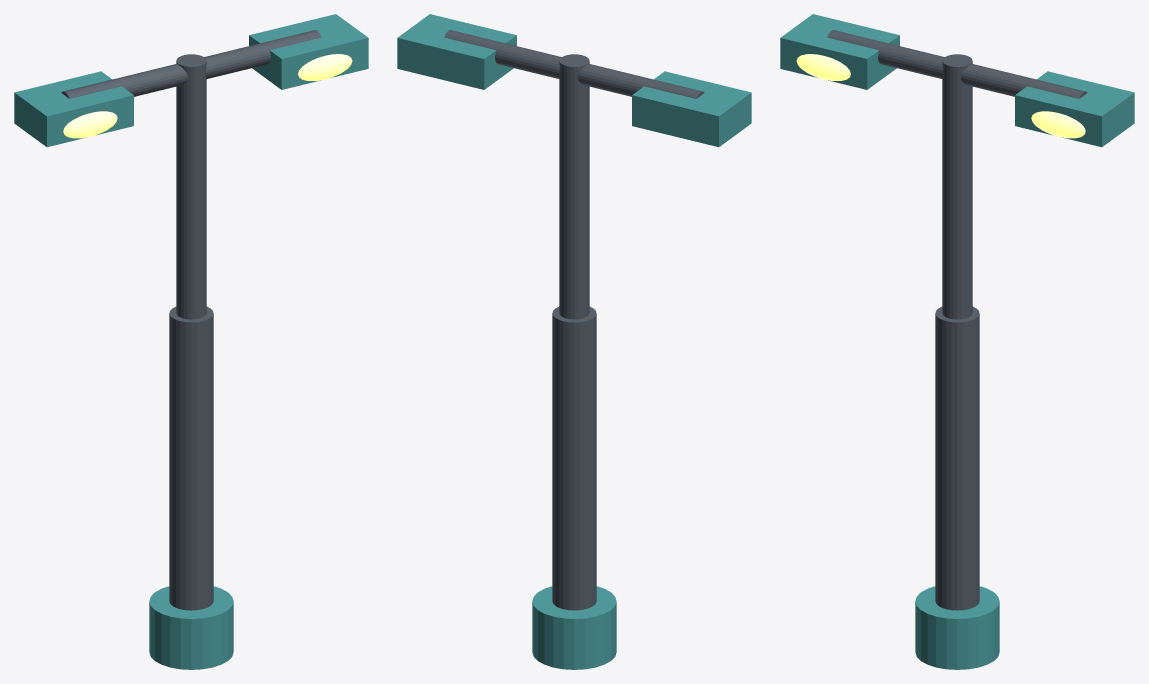
Rendered from lamp_civic_double_v1.47ae1fe13f50.glb.
3 views of the same model, side by side, from view 1: azimuth 30°, elevation 25°; view 2: azimuth 150°, elevation 25°; view 3: azimuth 330°, elevation 25° (orthographic).
Visible parts, largest first — view 1: Lamp_Lower_CIVIC_DOUBLE, Lamp_Upper_CIVIC_DOUBLE, Lamp_Base_CIVIC_DOUBLE, Luminaire_CIVIC_DOUBLE, Luminaire_CIVIC_DOUBLE.001, Lamp_Arm_CIVIC_DOUBLE, Glow_CIVIC_DOUBLE.001, Glow_CIVIC_DOUBLE; view 2: Lamp_Lower_CIVIC_DOUBLE, Lamp_Upper_CIVIC_DOUBLE, Luminaire_CIVIC_DOUBLE, Luminaire_CIVIC_DOUBLE.001, Lamp_Base_CIVIC_DOUBLE, Lamp_Arm_CIVIC_DOUBLE; view 3: Lamp_Lower_CIVIC_DOUBLE, Lamp_Upper_CIVIC_DOUBLE, Lamp_Base_CIVIC_DOUBLE, Luminaire_CIVIC_DOUBLE.001, Luminaire_CIVIC_DOUBLE, Lamp_Arm_CIVIC_DOUBLE, Glow_CIVIC_DOUBLE, Glow_CIVIC_DOUBLE.001.
Boxes of the visible parts, <box> form: Lamp_Lower_CIVIC_DOUBLE: <box>169,306,213,610</box>; Lamp_Upper_CIVIC_DOUBLE: <box>176,54,206,319</box>; Lamp_Base_CIVIC_DOUBLE: <box>149,586,233,669</box>; Luminaire_CIVIC_DOUBLE: <box>14,71,133,147</box>; Luminaire_CIVIC_DOUBLE.001: <box>249,14,368,89</box>; Lamp_Arm_CIVIC_DOUBLE: <box>61,30,321,98</box>; Glow_CIVIC_DOUBLE.001: <box>63,111,117,138</box>; Glow_CIVIC_DOUBLE: <box>298,54,352,80</box>; Lamp_Lower_CIVIC_DOUBLE: <box>552,306,596,610</box>; Lamp_Upper_CIVIC_DOUBLE: <box>559,54,589,319</box>; Luminaire_CIVIC_DOUBLE: <box>632,71,751,147</box>; Luminaire_CIVIC_DOUBLE.001: <box>397,14,516,89</box>; Lamp_Base_CIVIC_DOUBLE: <box>532,586,616,669</box>; Lamp_Arm_CIVIC_DOUBLE: <box>444,30,704,98</box>; Lamp_Lower_CIVIC_DOUBLE: <box>935,306,979,610</box>; Lamp_Upper_CIVIC_DOUBLE: <box>942,54,972,319</box>; Lamp_Base_CIVIC_DOUBLE: <box>915,586,999,669</box>; Luminaire_CIVIC_DOUBLE.001: <box>1015,71,1134,147</box>; Luminaire_CIVIC_DOUBLE: <box>780,14,899,89</box>; Lamp_Arm_CIVIC_DOUBLE: <box>827,30,1087,98</box>; Glow_CIVIC_DOUBLE: <box>1031,111,1085,138</box>; Glow_CIVIC_DOUBLE.001: <box>796,54,850,80</box>.
Bounding box in the file's own units: 3.7 × 6.5 × 0.84.
